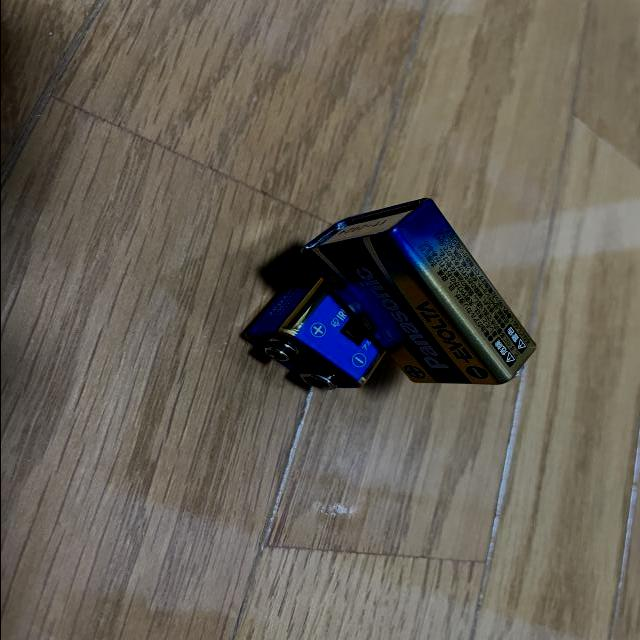9V: (296, 197, 535, 385), (242, 265, 388, 392)
